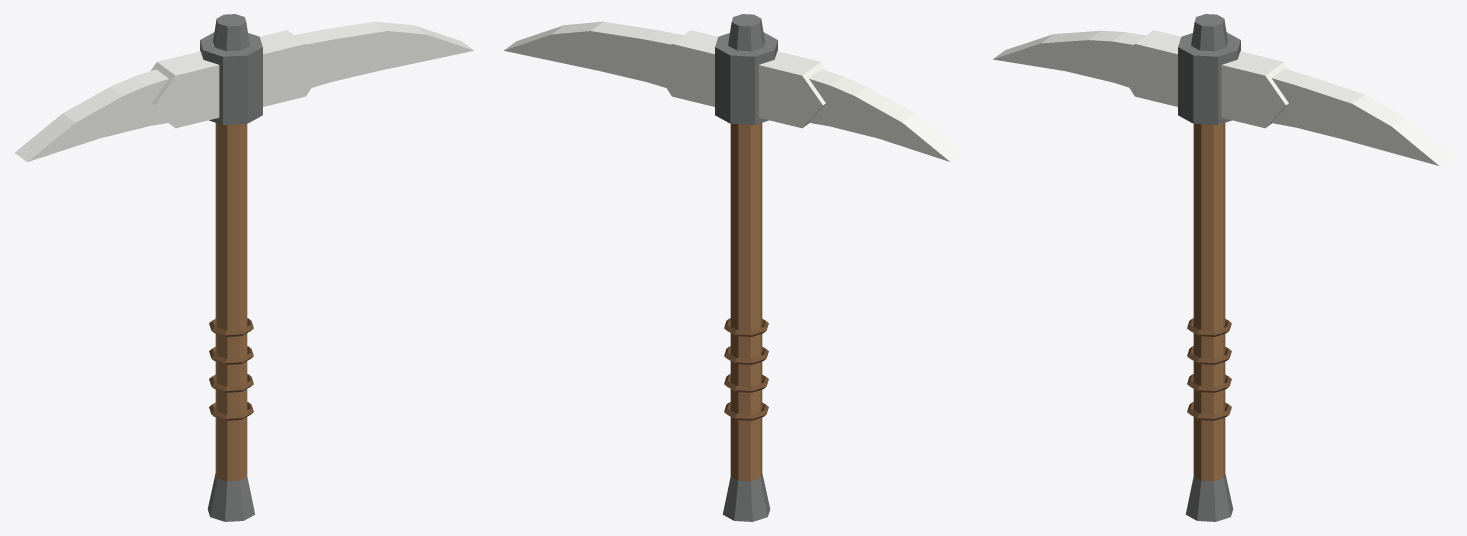
File: t8_pickaxe.glb
The picture shows the model from 3 angles, left to right: view 1: azimuth 30°, elevation 25°; view 2: azimuth 150°, elevation 25°; view 3: azimuth 330°, elevation 25°; orthographic projection.
Parts seen in each view (by area): view 1: WoodHandle, HeadCore, RightPickHead, LeftPickHead, HeadSocket, BottomPommel, TopCap; view 2: WoodHandle, HeadCore, RightPickHead, LeftPickHead, HeadSocket, BottomPommel, TopCap; view 3: WoodHandle, RightPickHead, HeadCore, LeftPickHead, HeadSocket, BottomPommel, TopCap.
Part boxes in pixels (<box>): WoodHandle: <box>215,123,247,481</box>; HeadCore: <box>151,30,326,128</box>; RightPickHead: <box>294,21,473,87</box>; LeftPickHead: <box>15,69,168,161</box>; HeadSocket: <box>200,32,262,124</box>; BottomPommel: <box>207,473,255,521</box>; TopCap: <box>213,14,249,51</box>; WoodHandle: <box>730,123,762,481</box>; HeadCore: <box>651,30,826,128</box>; RightPickHead: <box>504,21,683,87</box>; LeftPickHead: <box>809,69,962,161</box>; HeadSocket: <box>715,32,777,124</box>; BottomPommel: <box>722,473,770,521</box>; TopCap: <box>728,14,764,51</box>; WoodHandle: <box>1193,123,1225,481</box>; RightPickHead: <box>1271,69,1451,165</box>; HeadCore: <box>1114,30,1289,128</box>; LeftPickHead: <box>993,30,1145,87</box>; HeadSocket: <box>1178,32,1240,124</box>; BottomPommel: <box>1185,473,1233,521</box>; TopCap: <box>1191,14,1227,51</box>.
Bounding box in the file's own units: 1.51 × 1.59 × 0.19.
